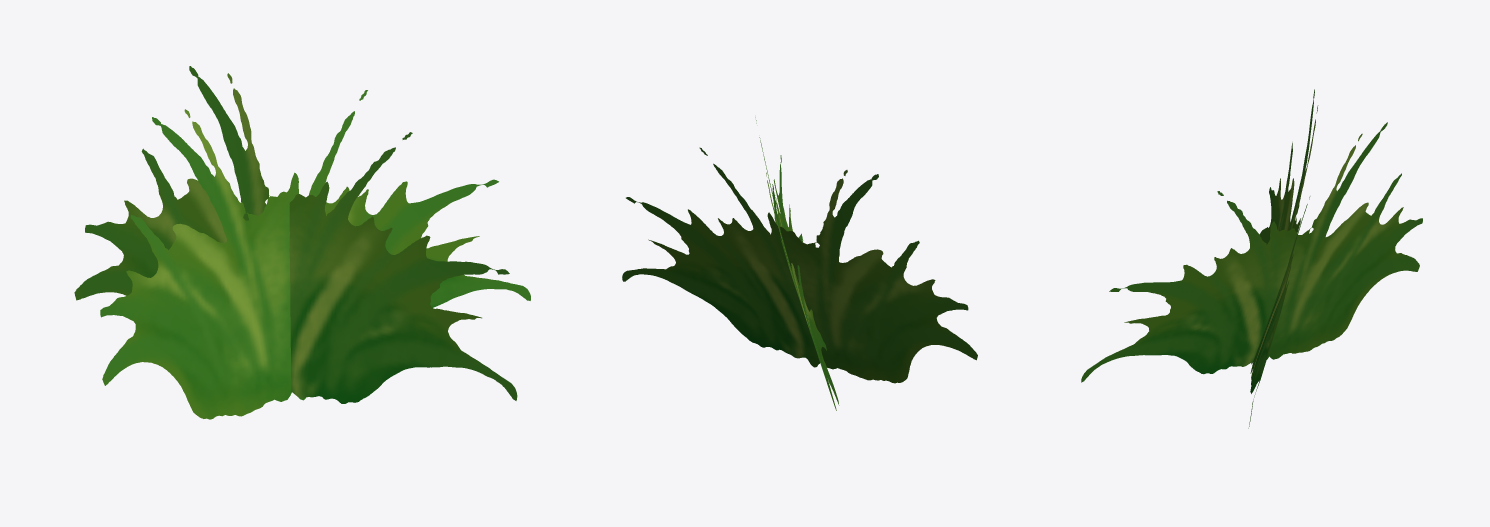
Rendered from Trawa_2.fbx.
3 views of the same model, side by side, from view 1: azimuth 30°, elevation 25°; view 2: azimuth 150°, elevation 25°; view 3: azimuth 270°, elevation 25° (orthographic). The views are drawn at different scales.
Parts seen in each view (by area): view 1: Plane.013; view 2: Plane.013; view 3: Plane.013.
Part boxes in pixels (<box>): Plane.013: <box>74,66,530,419</box>; Plane.013: <box>622,117,977,410</box>; Plane.013: <box>1081,89,1422,428</box>.
Bounding box in the file's own units: 143 × 100 × 127.
1 material, 1 textured.
